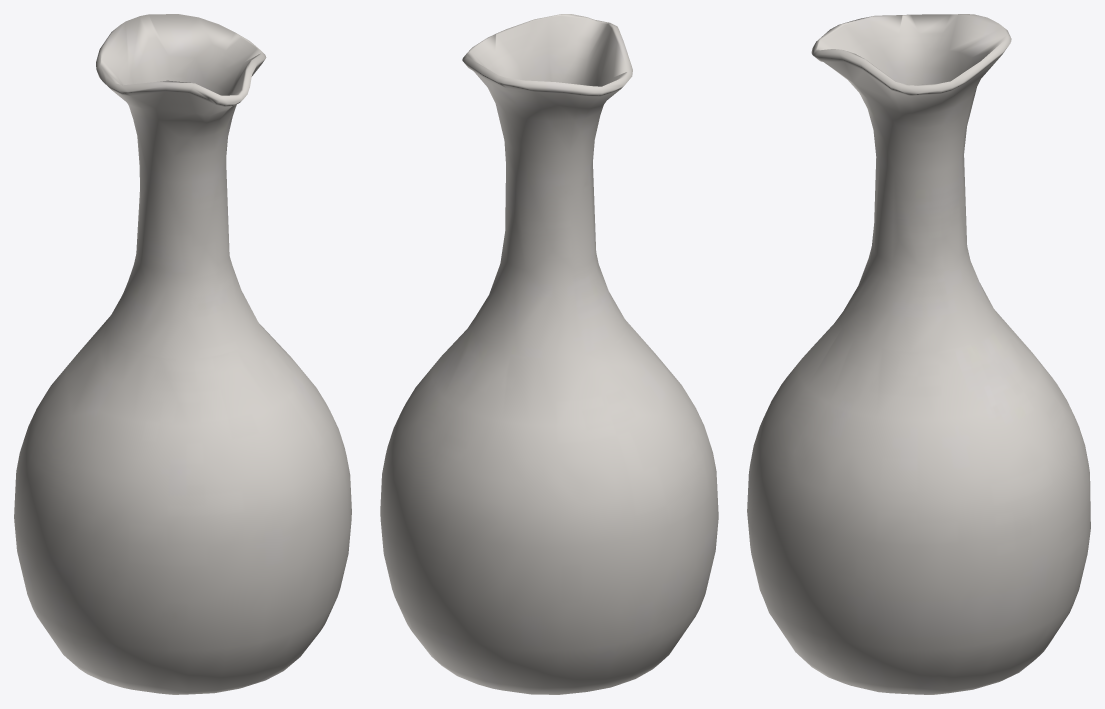
File: vase.glb
3 views of the same model, side by side, from view 1: azimuth 30°, elevation 25°; view 2: azimuth 150°, elevation 25°; view 3: azimuth 270°, elevation 25° (orthographic).
Parts seen in each view (by area): view 1: ceramic_vase_01; view 2: ceramic_vase_01; view 3: ceramic_vase_01.
Boxes of the visible parts, x1,y1,x2,y2 form: ceramic_vase_01: (14, 14, 351, 694); ceramic_vase_01: (380, 14, 718, 694); ceramic_vase_01: (747, 14, 1090, 694).
Bounding box in the file's own units: 0.2036 × 0.4003 × 0.2031.
Materials: 1 (1 with a texture image).
